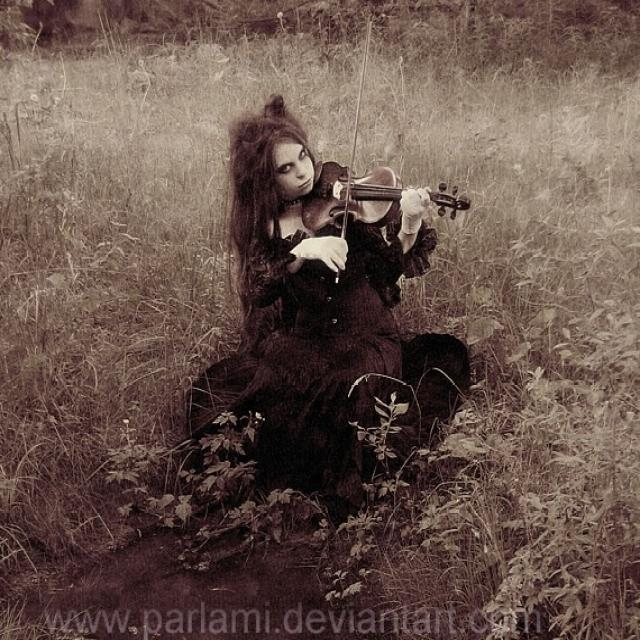violin: (297, 158, 477, 230)
